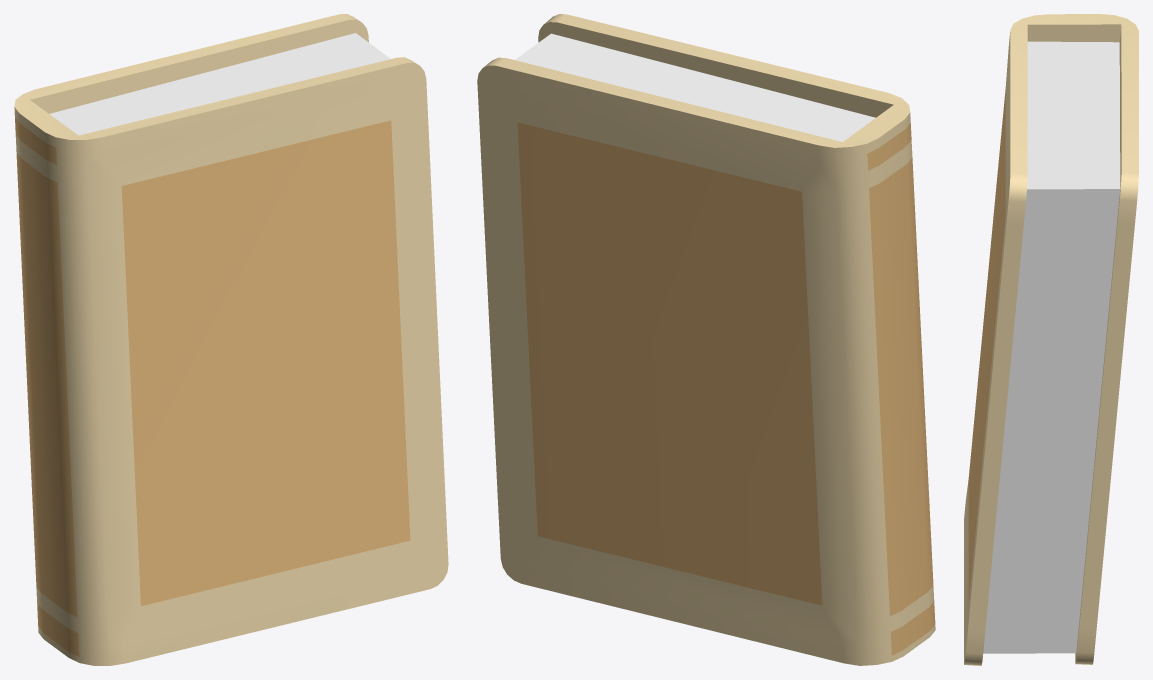
Rendered from book_7.fbx.
The picture shows the model from 3 angles, left to right: view 1: azimuth 30°, elevation 25°; view 2: azimuth 150°, elevation 25°; view 3: azimuth 270°, elevation 25°; orthographic projection. The views are drawn at different scales.
Parts seen in each view (by area): view 1: book_7; view 2: book_7; view 3: book_7.
Boxes of the visible parts, <box> form: book_7: <box>14,14,448,665</box>; book_7: <box>477,14,935,665</box>; book_7: <box>964,14,1138,665</box>.
Size of the model in its own units: 0.2761 by 0.3743 by 0.1208.
